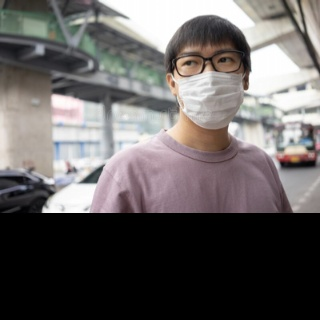with_mask: (174, 45, 245, 131)
